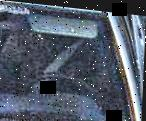seatbelt: (39, 26, 101, 83)
